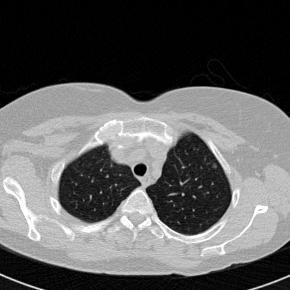nodule: (212, 163, 218, 169)
